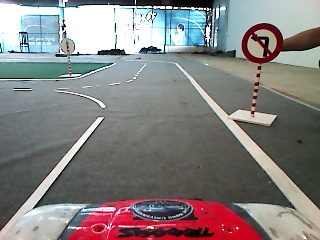ban_left: (241, 23, 282, 62)
